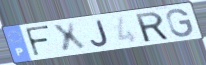4: (115, 14, 138, 45)
F: (24, 24, 52, 58)
G: (165, 8, 195, 39)
J: (90, 19, 110, 48)
R: (133, 10, 171, 44)
X: (51, 21, 90, 55)
